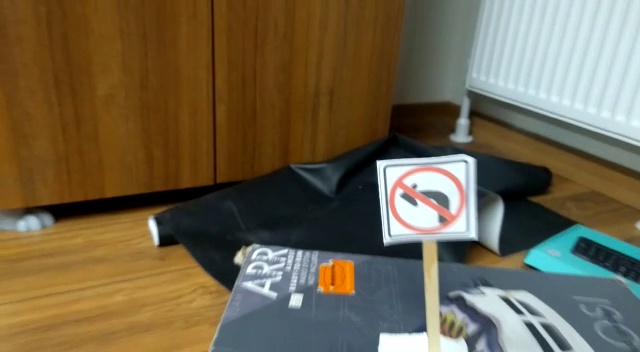sola_donulmez: (388, 156, 467, 242)
